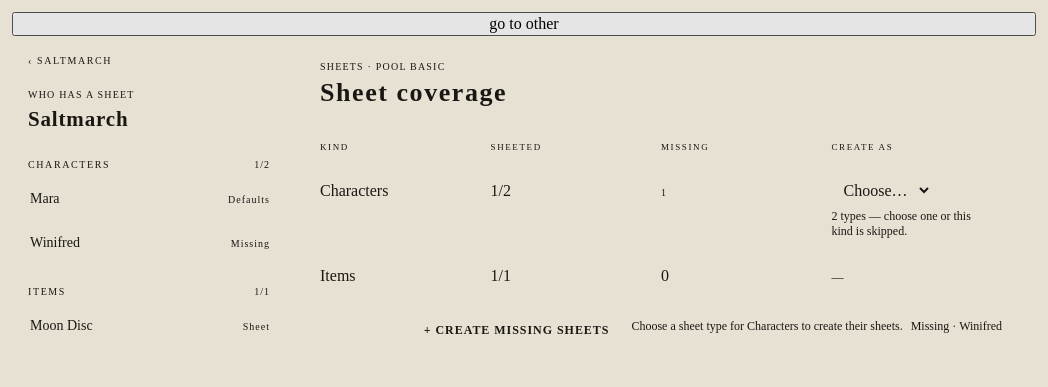
a skipped kind is reported, not swallowed
The image size is (1048, 387).
Expected: the heading "Sheet coverage" is shown, x1=320 y1=78 x2=507 y2=107
Select "Shifter" in the dropdown named "Sheet type for Characters". click: (882, 191)
box: x1=832 y1=176 x2=932 y2=205
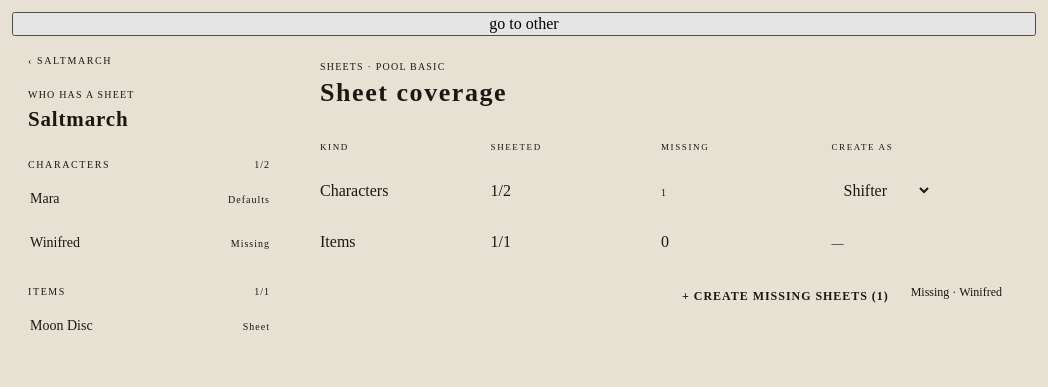
Click the button "+ Create missing sheets (1)". click: (785, 297)
box: x1=668 y1=281 x2=903 y2=312
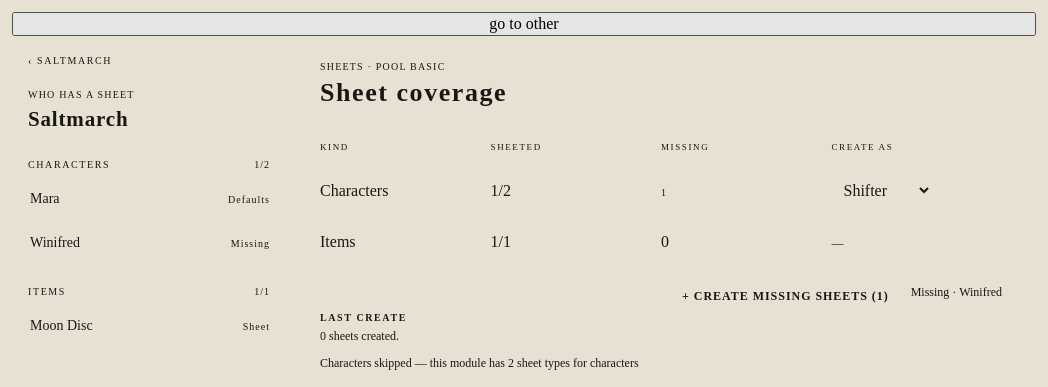
Expected: the text "Characters skipped" is shown, x1=320 y1=356 x2=639 y2=370
Expected: the text "this module has 2 sheet types for characters" is shown, x1=430 y1=356 x2=639 y2=370
